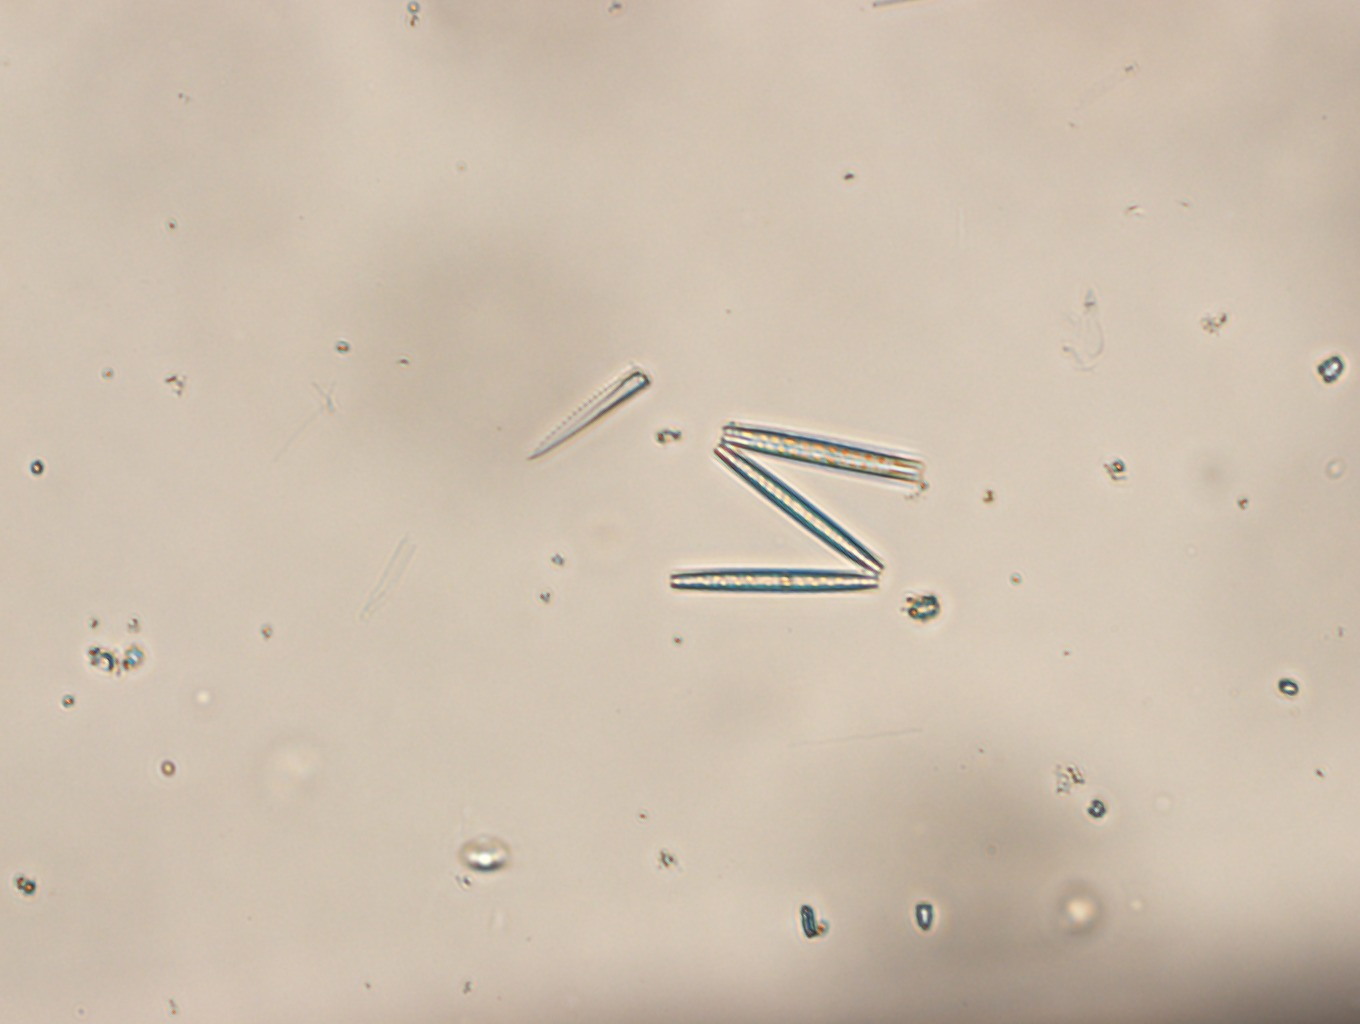thalassionema nitzschioides: (667, 424, 928, 596)
